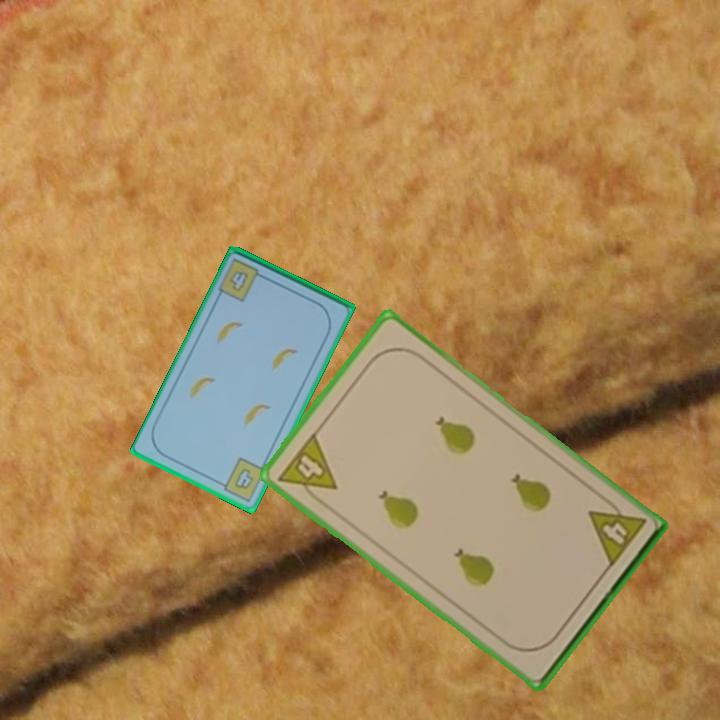4b: (214, 454, 268, 505), (226, 267, 251, 295)
4p: (273, 428, 340, 509), (584, 492, 649, 571)
